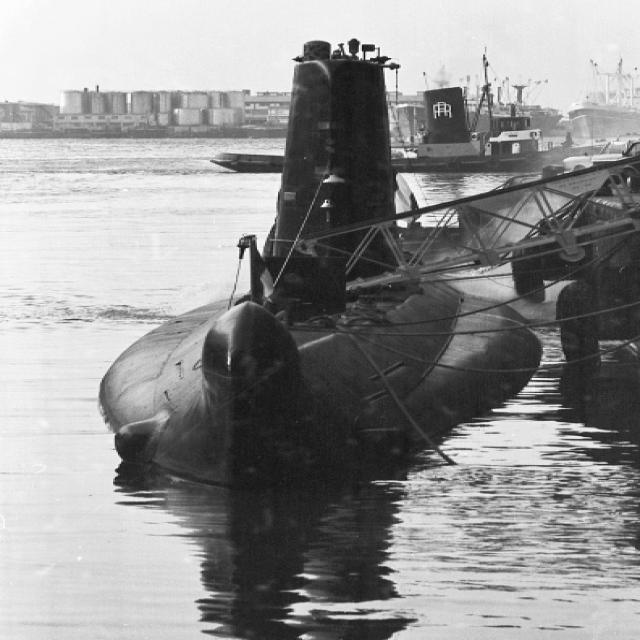submarine: (93, 41, 546, 492)
